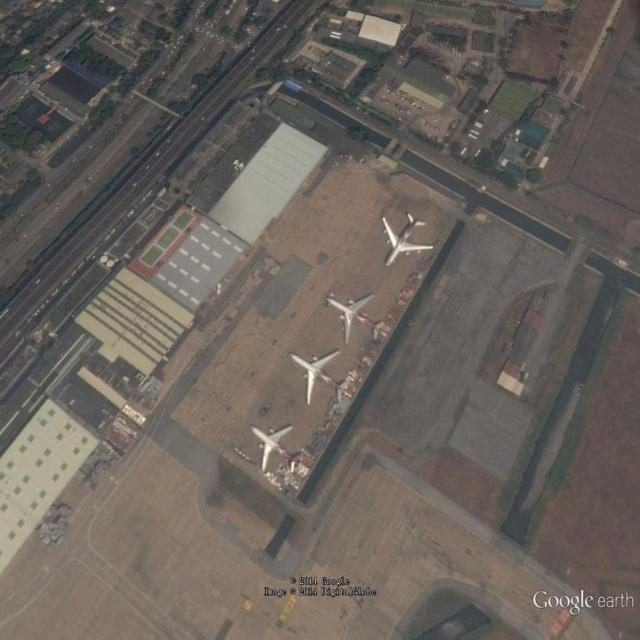aircraft: (286, 347, 356, 410), (325, 292, 392, 349), (380, 210, 439, 271), (248, 421, 308, 479)
